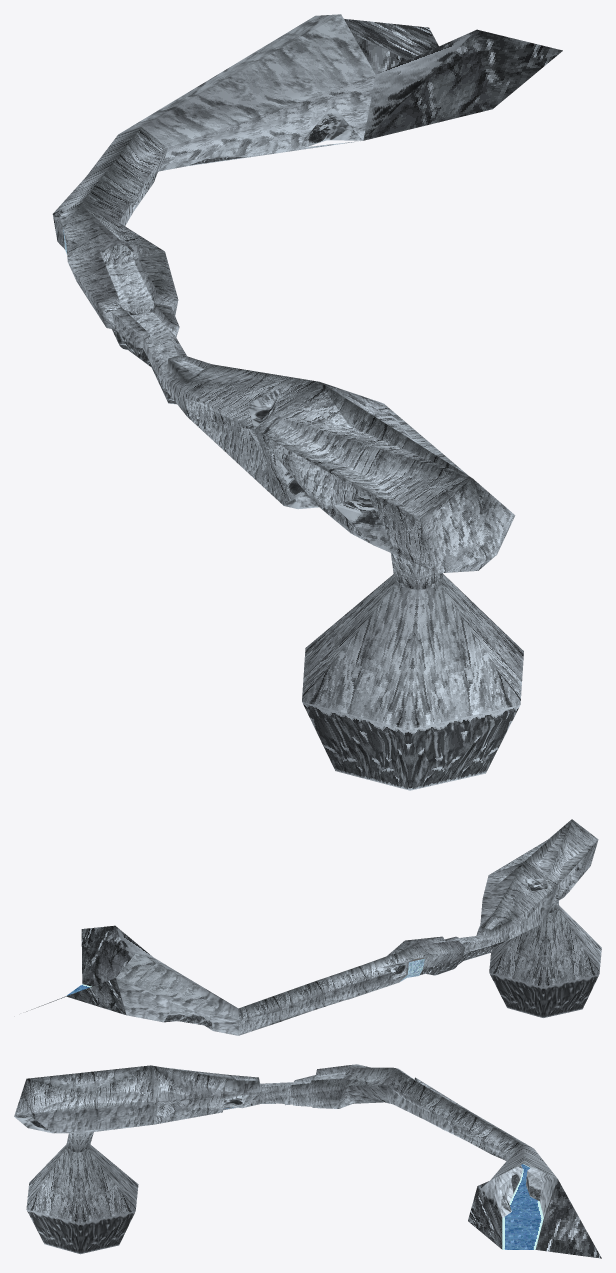
File: terrain.glb
The picture shows the model from 3 angles, top to bottom: view 1: azimuth 30°, elevation 25°; view 2: azimuth 150°, elevation 25°; view 3: azimuth 270°, elevation 25°; orthographic projection. The views are drawn at different scales.
Parts seen in each view (by area): view 1: terrain; view 2: terrain; view 3: terrain.
Boxes of the visible parts, left/top/right/bottom form: terrain: left=52, top=14, right=562, bottom=790; terrain: left=26, top=819, right=601, bottom=1035; terrain: left=14, top=1064, right=601, bottom=1258.
Bounding box in the file's own units: 269 × 131 × 425.
16 materials, 16 textured.
